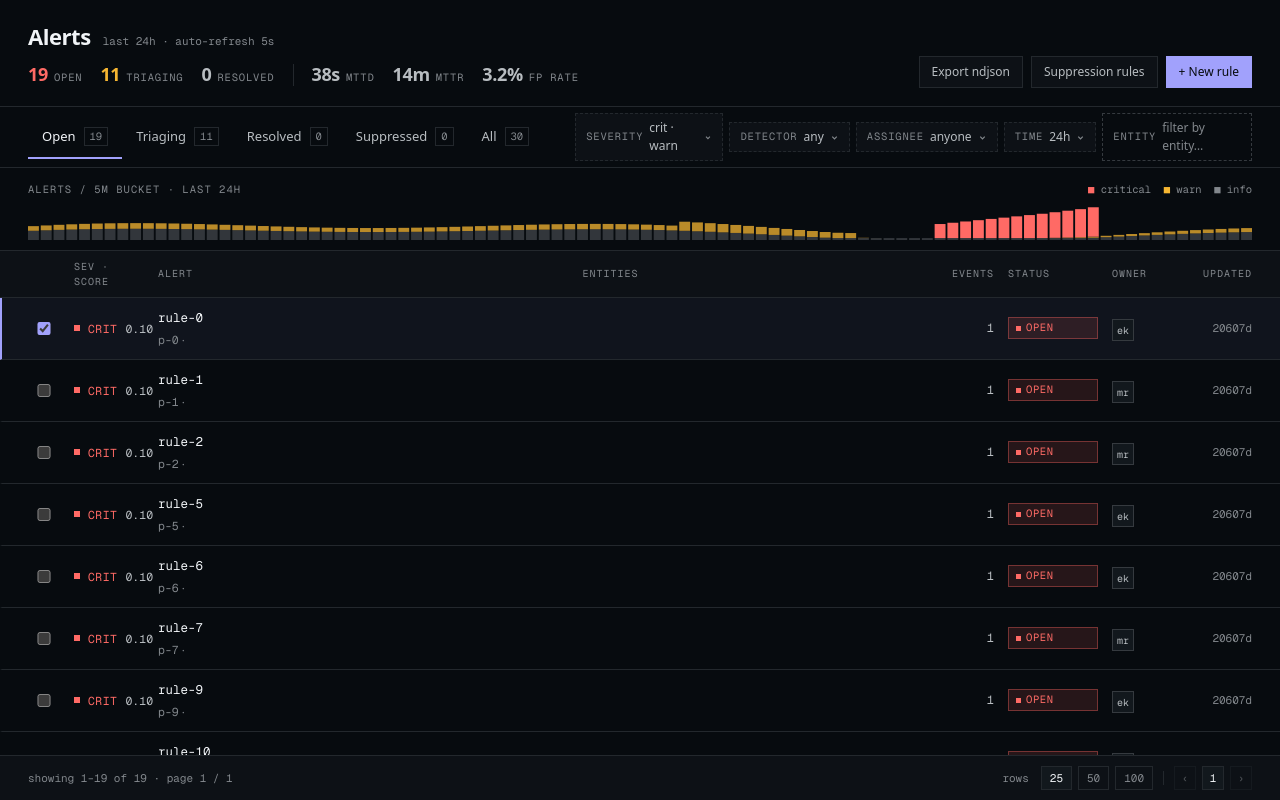
Test: AlertFeed integration › paginates client-side over the loaded set and changes rows-per-page
The image size is (1280, 800).
"All" tab shows every loaded alert regardless of derived status.
Click the tab "All 30". click: (505, 138)
box: [468, 116, 543, 159]
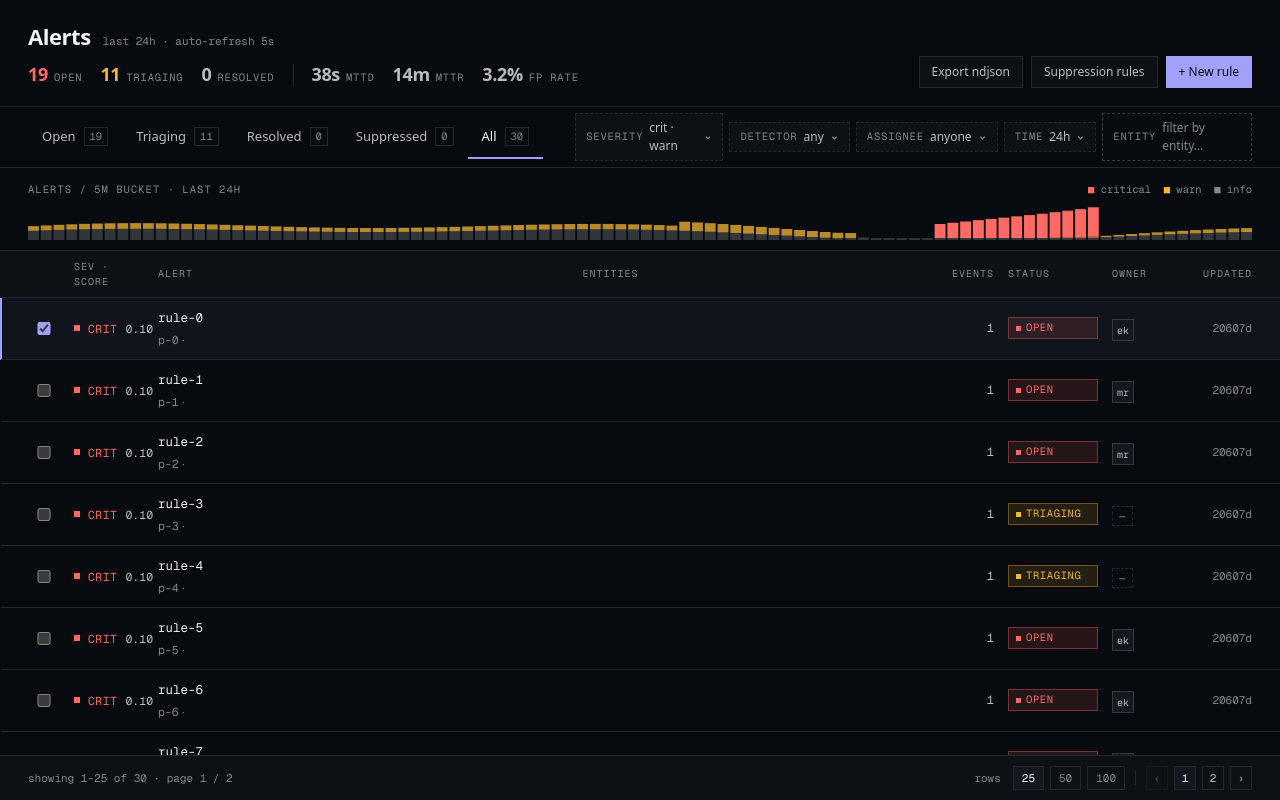
Check: the text "rule-0" is shown, box [158, 309, 203, 328]
Check: the text with test id "alerts-page-summary" shows "of 30", box [28, 770, 233, 786]
Bump to 50 rows/page → all 30 visible.
Click the button "50". click: (1066, 778)
box: [1050, 766, 1081, 790]
(page scrolled)
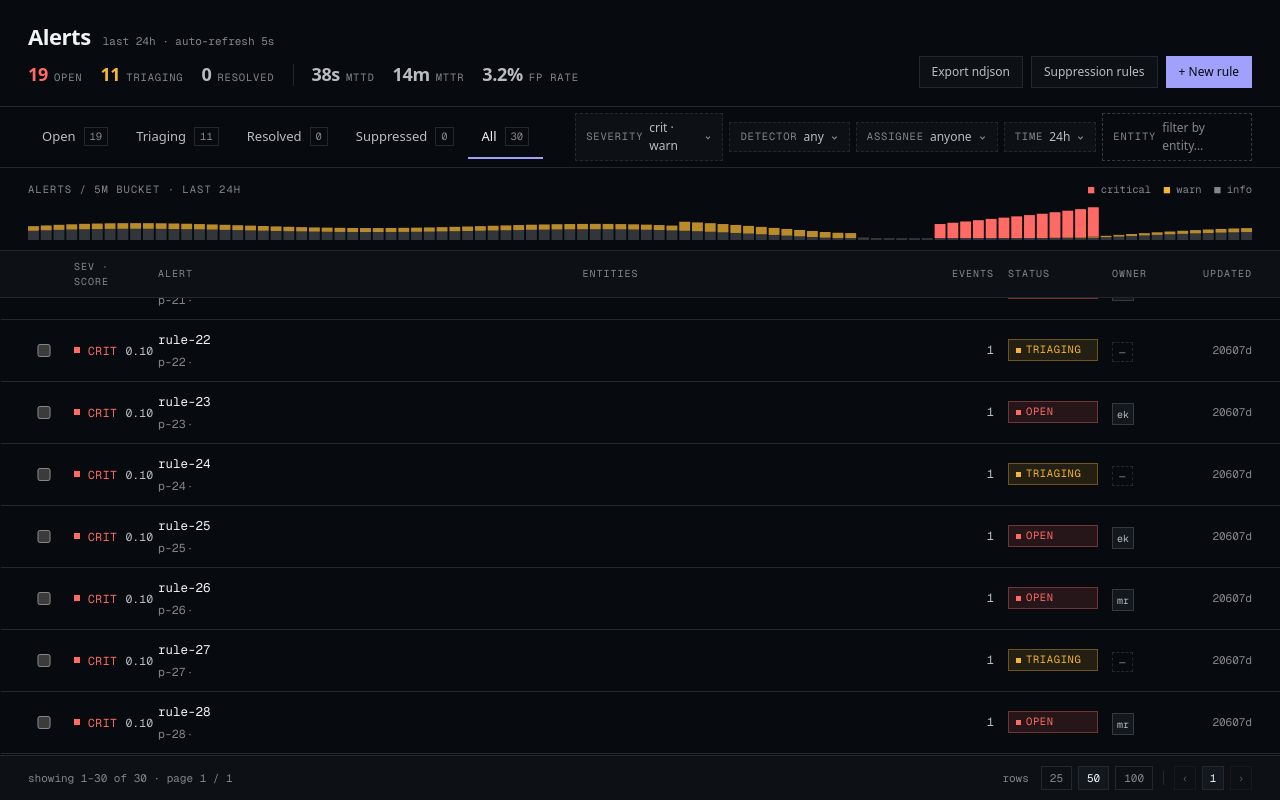
Check: the text "rule-25" is shown, box [158, 517, 210, 536]
